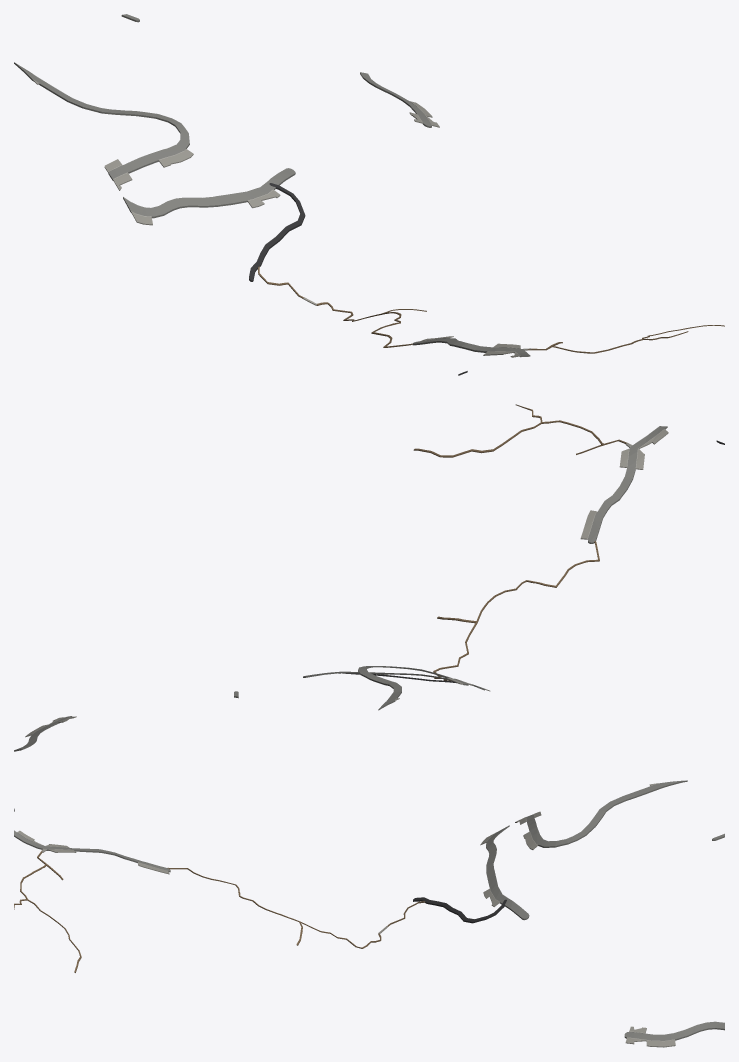
3 views of the same model, one above another, from view 1: azimuth 30°, elevation 25°; view 2: azimuth 150°, elevation 25°; view 3: azimuth 270°, elevation 25° (orthographic). The views are drawn at different scales.
Bounding box in the file's own units: 307 × 103 × 583.
